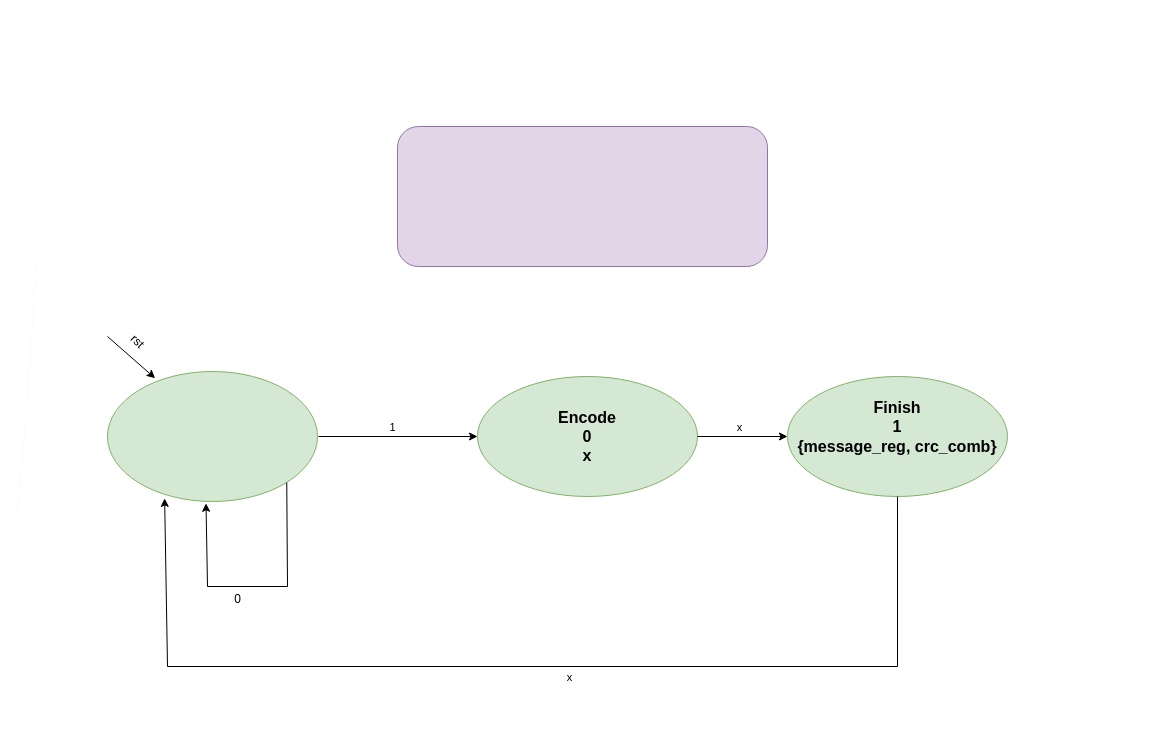
Image size: 1153x743. Some labels were removed from this diagram. The centre of each missing label's shape, as x and y in pixels:
CRC FSM Input: Start Outputs: Done, result: the point at 582,196
IDLE 0 x: the point at 212,436
